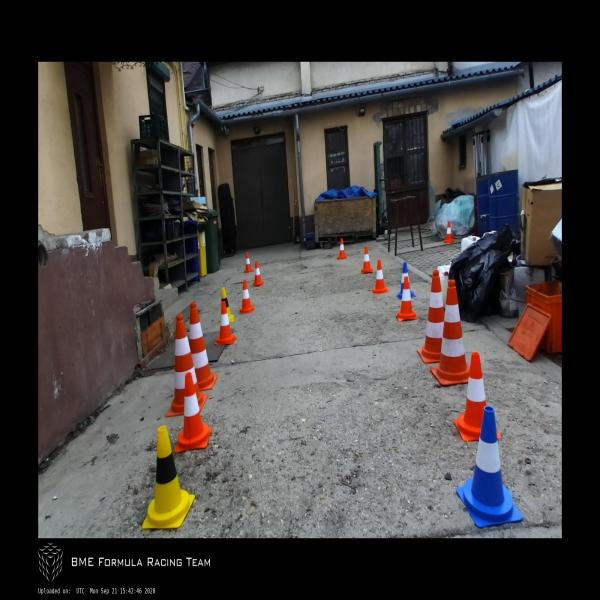blue_cone: (456, 406, 523, 528), (396, 262, 415, 300)
large_orange_cone: (166, 314, 209, 417), (430, 279, 470, 386), (188, 302, 218, 392), (417, 270, 444, 364)
orange_cone: (453, 352, 500, 442), (174, 371, 211, 452), (396, 276, 417, 322), (215, 302, 236, 346), (372, 259, 388, 295), (238, 280, 254, 313), (361, 246, 373, 274), (252, 261, 264, 286), (443, 220, 455, 244), (336, 238, 347, 260), (243, 251, 253, 272)
yellow_cone: (142, 424, 196, 530), (218, 287, 235, 322)
